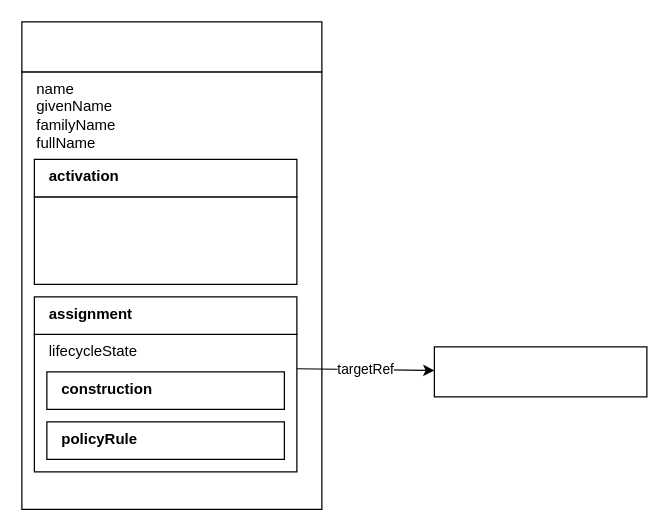
Image size: 669x531. Some labels were removed from this diagram. The shapes that lost their labels are listed below. From the top down, each one's centre as x and y in pixels, then its label:
(171,46): User
(165,240): administrativeStatus effetiveStatus validFrom validTo
(540,371): AbstractRole
